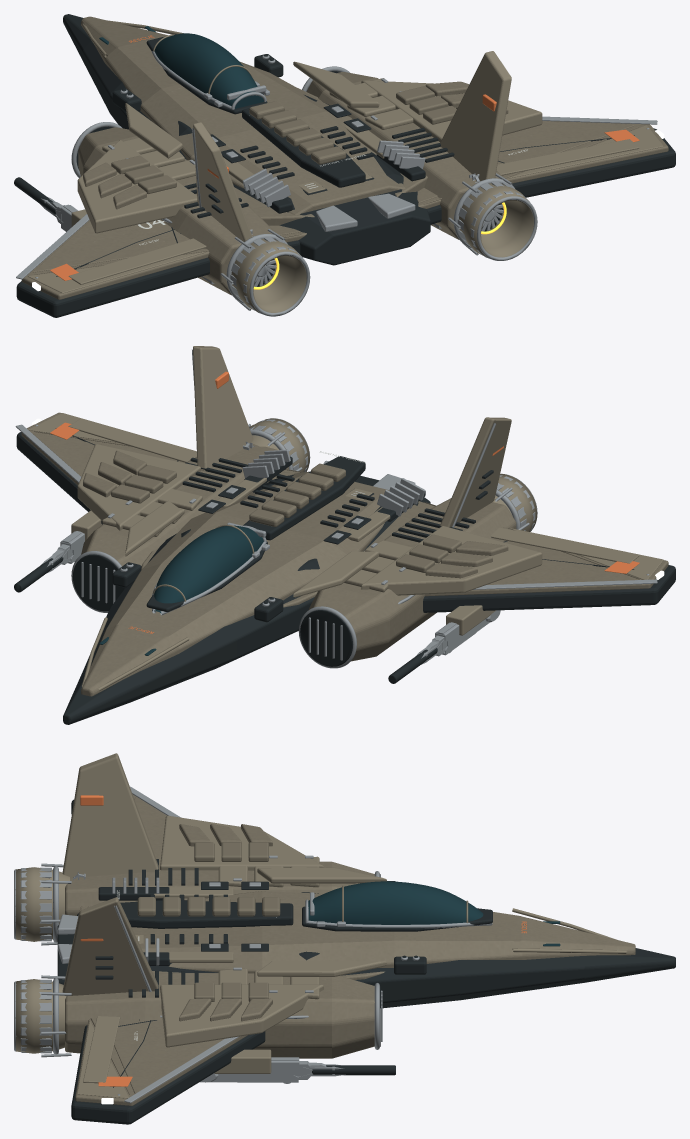
The model's file is aegis.glb.
3 renders of one model, top to bottom at view 1: azimuth 30°, elevation 25°; view 2: azimuth 150°, elevation 25°; view 3: azimuth 270°, elevation 25°, orthographic.
Visible parts, largest first — view 1: 主装甲_陶瓷金属涂层, 次级装甲_深色钢, 碳化结构与接缝, 拉丝钛合金, 镀膜座舱玻璃, 识别色; view 2: 主装甲_陶瓷金属涂层, 次级装甲_深色钢, 碳化结构与接缝, 拉丝钛合金, 镀膜座舱玻璃, 识别色; view 3: 主装甲_陶瓷金属涂层, 次级装甲_深色钢, 碳化结构与接缝, 拉丝钛合金, 镀膜座舱玻璃, 识别色.
Part boxes in pixels (x1,y1,x2,y2): 主装甲_陶瓷金属涂层: [21, 16, 668, 299]; 次级装甲_深色钢: [28, 20, 663, 312]; 碳化结构与接缝: [14, 14, 675, 317]; 拉丝钛合金: [16, 51, 657, 316]; 镀膜座舱玻璃: [99, 26, 263, 108]; 识别色: [50, 35, 639, 280]; 主装甲_陶瓷金属涂层: [21, 412, 668, 696]; 次级装甲_深色钢: [28, 346, 663, 690]; 碳化结构与接缝: [14, 428, 675, 724]; 拉丝钛合金: [15, 349, 657, 668]; 镀膜座舱玻璃: [99, 525, 263, 655]; 识别色: [50, 371, 639, 633]; 主装甲_陶瓷金属涂层: [65, 794, 635, 1105]; 次级装甲_深色钢: [15, 753, 626, 1098]; 碳化结构与接缝: [57, 799, 675, 1124]; 拉丝钛合金: [14, 786, 492, 1103]; 镀膜座舱玻璃: [308, 881, 560, 946]; 识别色: [80, 795, 526, 1086].
Bounding box in the file's own units: 9.59 × 2.39 × 8.5.
9 materials, 1 textured.
